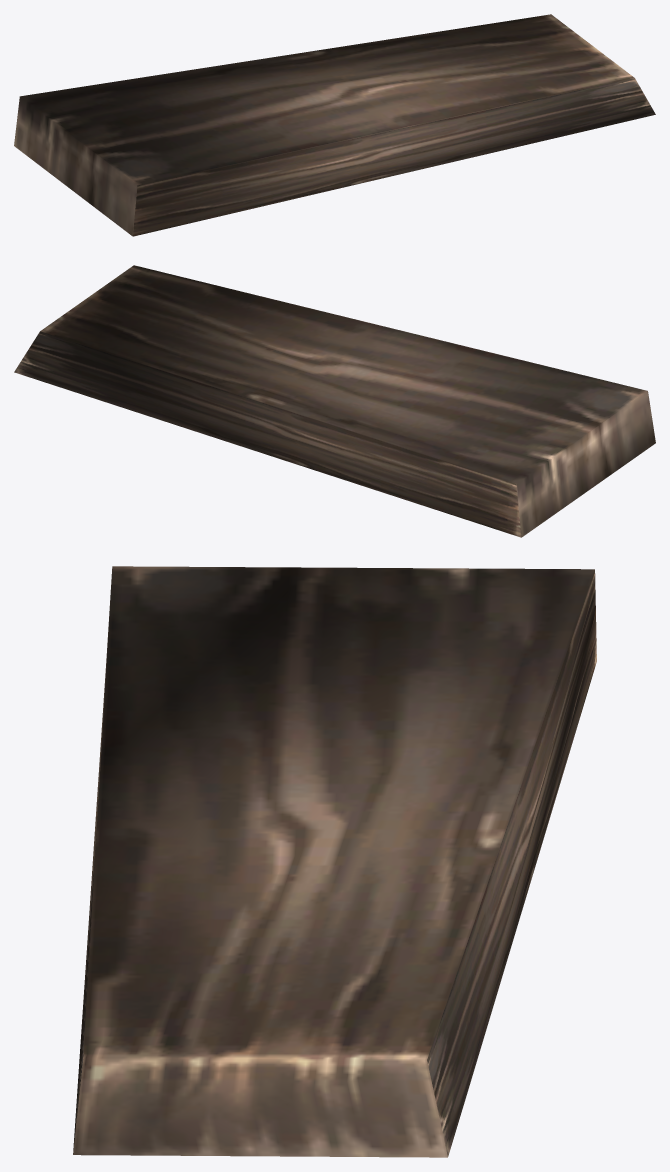
Rendered from darkironwoodplanks07.obj.
The picture shows the model from 3 angles, top to bottom: view 1: azimuth 30°, elevation 25°; view 2: azimuth 150°, elevation 25°; view 3: azimuth 270°, elevation 25°; orthographic projection. The views are drawn at different scales.
Parts seen in each view (by area): view 1: darkironwoodplanks07; view 2: darkironwoodplanks07; view 3: darkironwoodplanks07.
Part boxes in pixels (<box>): darkironwoodplanks07: <box>14,14,655,236</box>; darkironwoodplanks07: <box>14,265,655,537</box>; darkironwoodplanks07: <box>73,566,596,1157</box>.
Size of the model in its own units: 2.55 by 0.2295 by 1.12.
